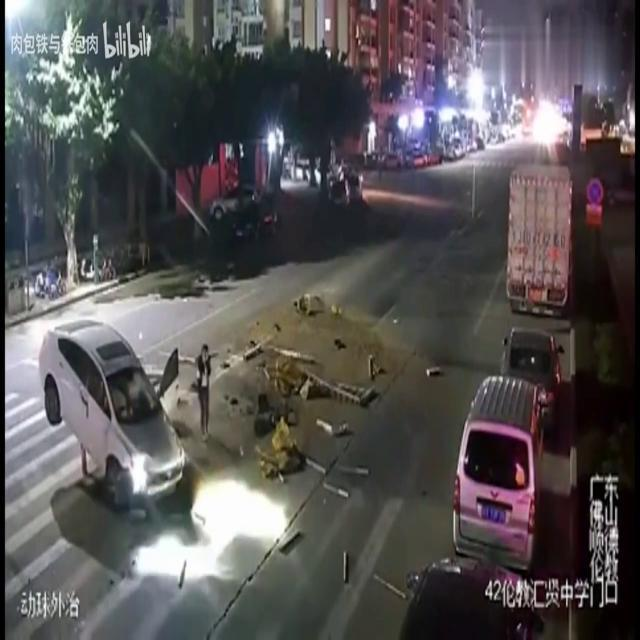normal: (457, 123, 605, 627)
single accident: (22, 282, 222, 507)
